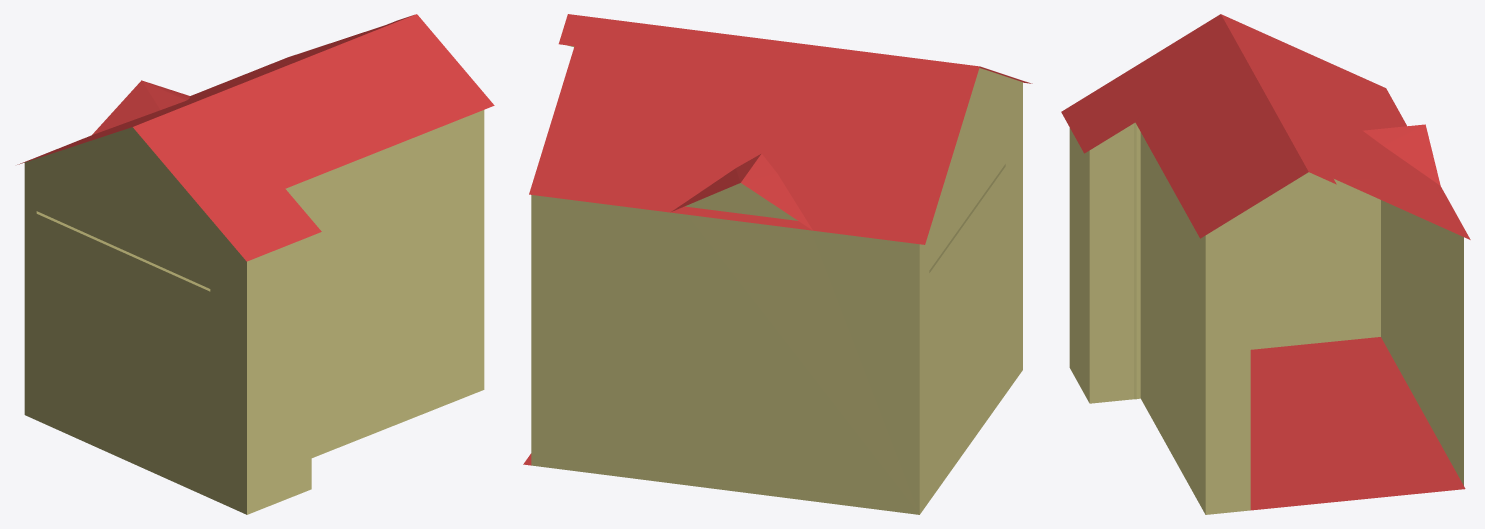
3 views of the same model, side by side, from view 1: azimuth 30°, elevation 25°; view 2: azimuth 150°, elevation 25°; view 3: azimuth 270°, elevation 25° (orthographic). The views are drawn at different scales.
Size of the model in its own units: 15.27 by 14.27 by 12.9.
